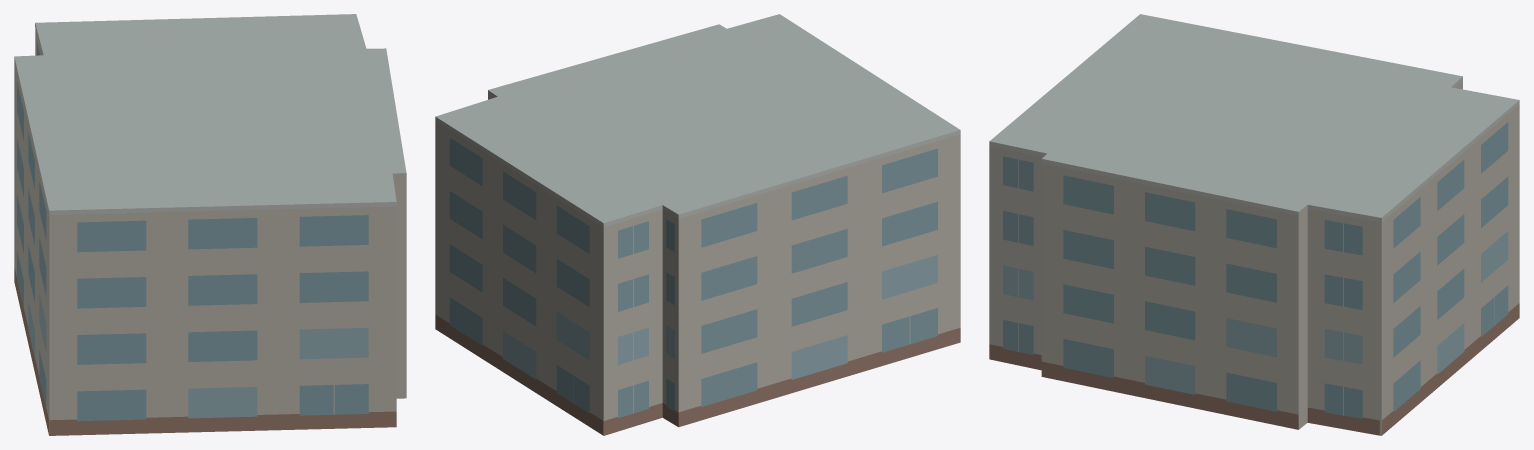
The model's file is survey-upis-33011571.glb.
The picture shows the model from 3 angles, left to right: view 1: azimuth 30°, elevation 25°; view 2: azimuth 150°, elevation 25°; view 3: azimuth 270°, elevation 25°; orthographic projection. The views are drawn at different scales.
Parts seen in each view (by area): view 1: survey-upis-33011571.tmp; view 2: survey-upis-33011571.tmp; view 3: survey-upis-33011571.tmp.
Part boxes in pixels (x1,y1,x2,y2): survey-upis-33011571.tmp: (14,14,406,435); survey-upis-33011571.tmp: (435,14,960,435); survey-upis-33011571.tmp: (989,14,1519,435).
Bounding box in the file's own units: 24.68 × 12.3 × 27.12.
